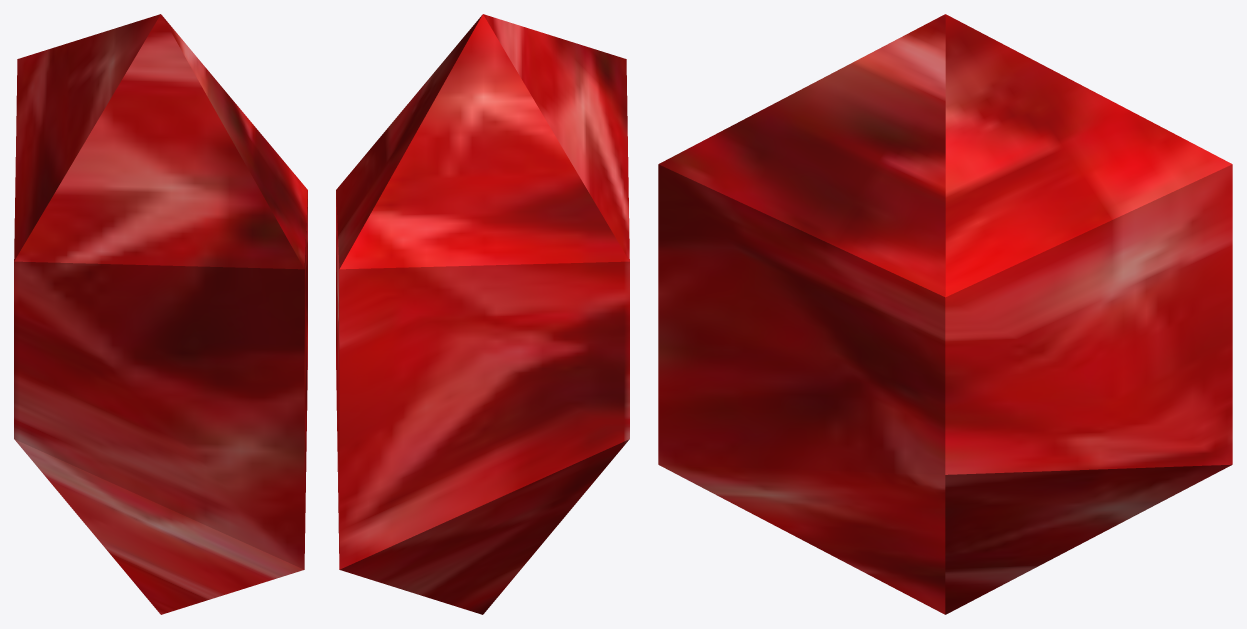
Rendered from ruby.fbx.
3 renders of one model, left to right at view 1: azimuth 30°, elevation 25°; view 2: azimuth 150°, elevation 25°; view 3: azimuth 270°, elevation 25°, orthographic.
Parts seen in each view (by area): view 1: Sphere; view 2: Sphere; view 3: Sphere.
Part boxes in pixels (<box>): Sphere: <box>14,14,307,614</box>; Sphere: <box>336,14,629,614</box>; Sphere: <box>658,14,1232,614</box>.
Bounding box in the file's own units: 102 × 200 × 173.
